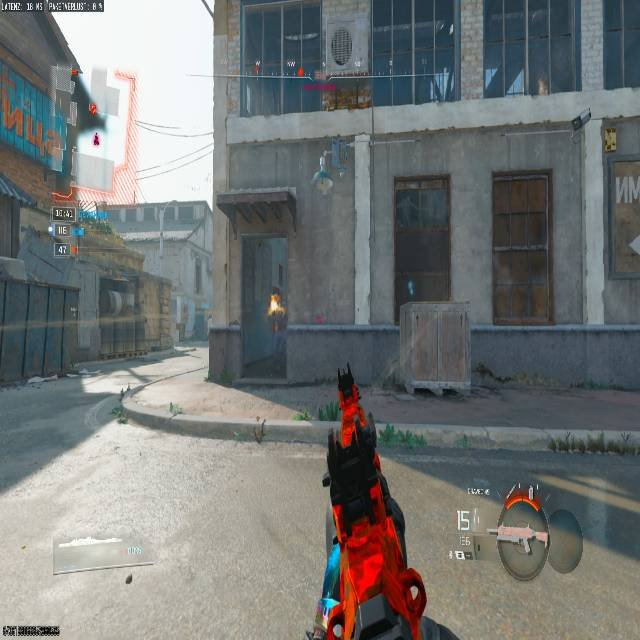player: (265, 297, 290, 358)
